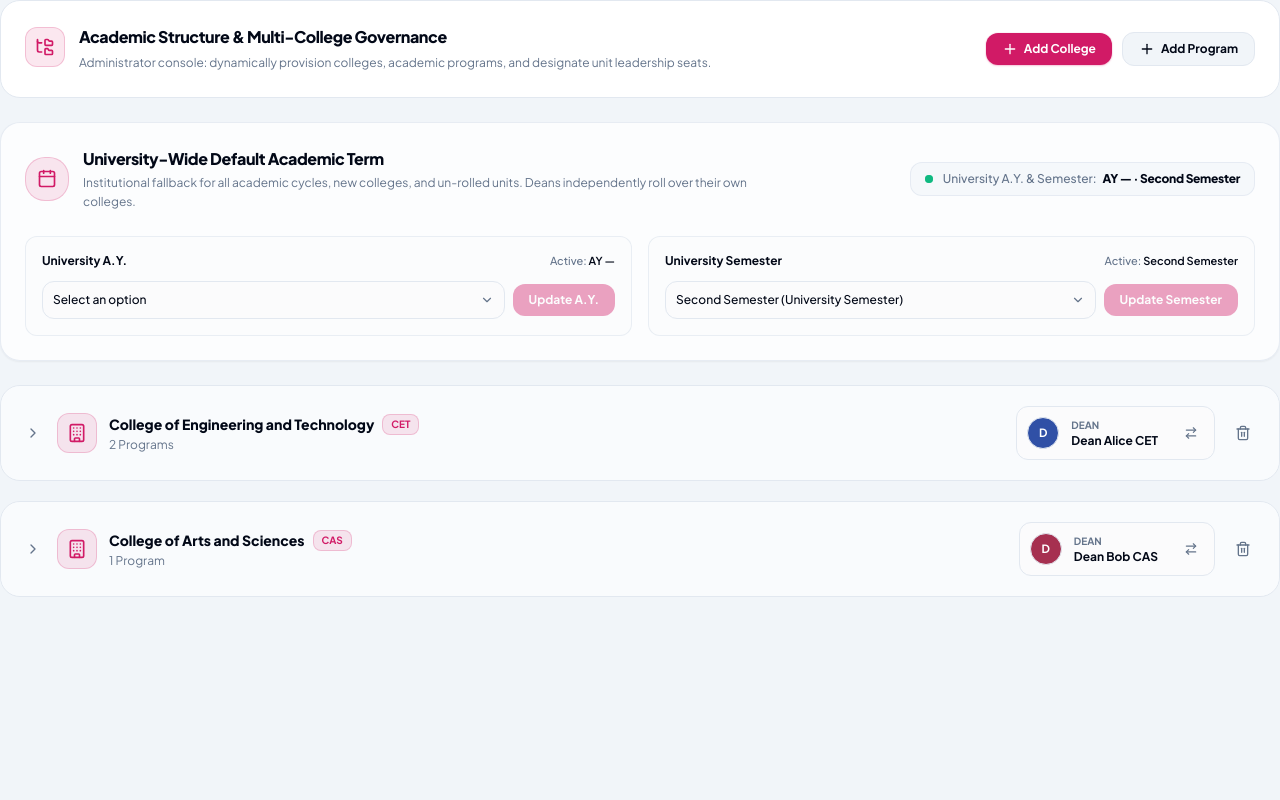
Test case: AcademicStructureTab Scoping and Leader Appointments › 5b. Add Program modal defaults the parent college to the placeholder, not the first college
Click the button "Add Program". click: (1188, 49)
box: [1122,32,1255,66]
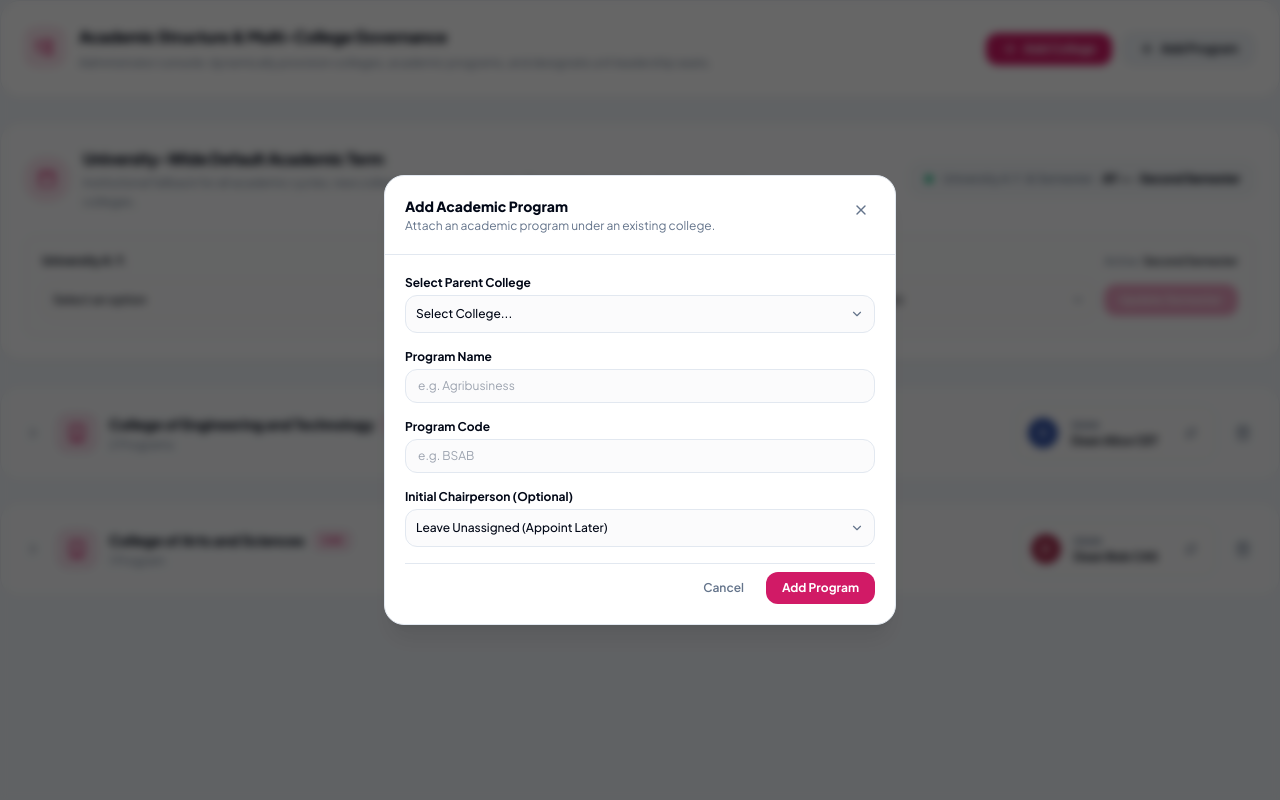
Expected: the heading "Add Academic Program" is shown, [405,197,568,215]
Expected: the label labelled "Select Parent College" is empty, [405,275,531,290]
